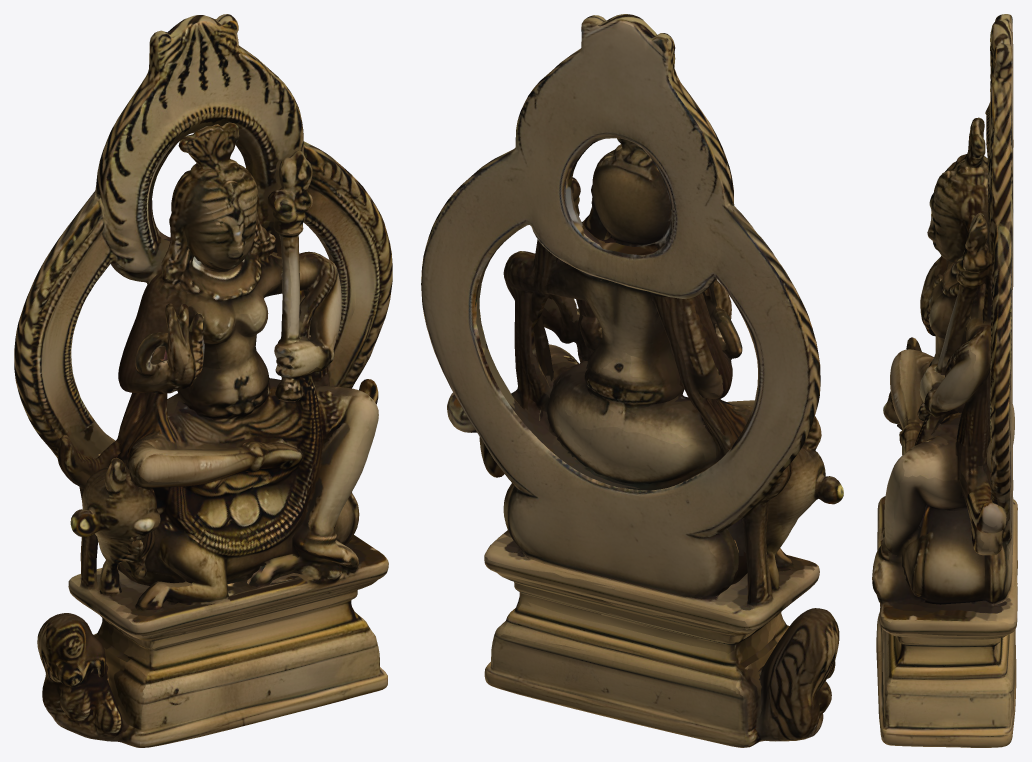
3 renders of one model, left to right at view 1: azimuth 30°, elevation 25°; view 2: azimuth 150°, elevation 25°; view 3: azimuth 270°, elevation 25°, orthographic. The views are drawn at different scales.
Visible parts, largest first — view 1: textured_mesh; view 2: textured_mesh; view 3: textured_mesh.
Boxes of the visible parts, x1,y1,x2,y2 form: textured_mesh: (14,14,392,747); textured_mesh: (421,14,843,747); textured_mesh: (872,14,1017,747).
Size of the model in its own units: 1.18 by 1.99 by 0.3979.
1 material, 1 textured.
